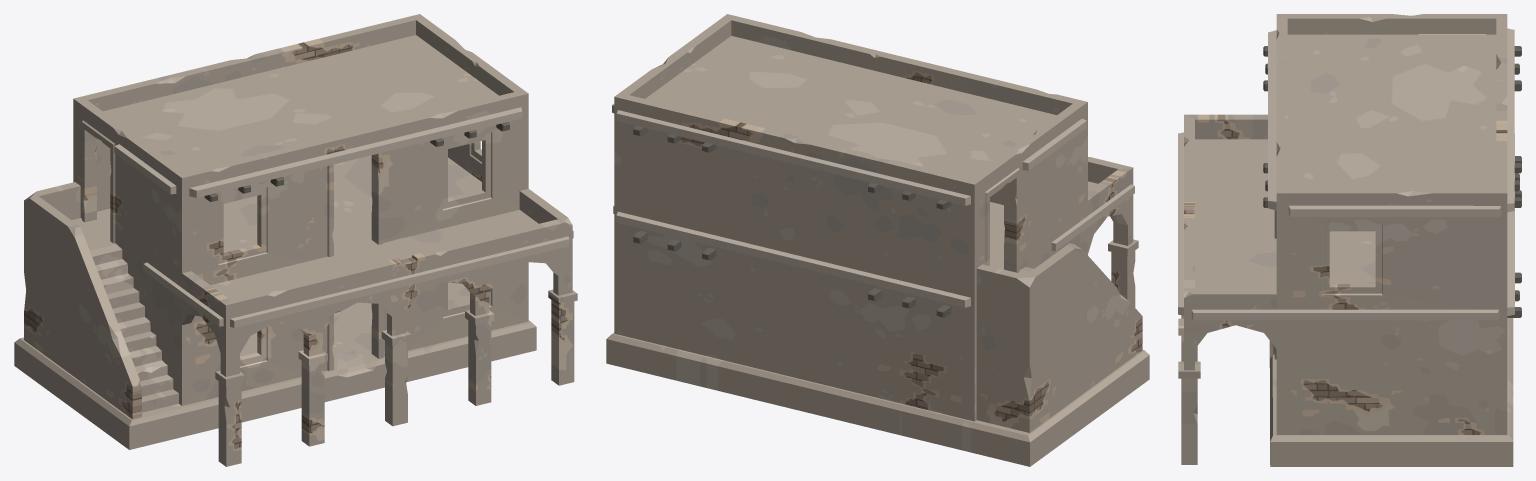
Rendered from SM_Bld_Village_House_03.fbx.
The picture shows the model from 3 angles, left to right: view 1: azimuth 30°, elevation 25°; view 2: azimuth 150°, elevation 25°; view 3: azimuth 270°, elevation 25°; orthographic projection. The views are drawn at different scales.
Parts seen in each view (by area): view 1: SM_Bld_Village_House_03; view 2: SM_Bld_Village_House_03; view 3: SM_Bld_Village_House_03.
Boxes of the visible parts, x1=… form: SM_Bld_Village_House_03: x1=14, y1=14, x2=577, y2=466; SM_Bld_Village_House_03: x1=606, y1=14, x2=1149, y2=466; SM_Bld_Village_House_03: x1=1178, y1=14, x2=1521, y2=466.
Size of the model in its own units: 1127 by 674 by 774.
